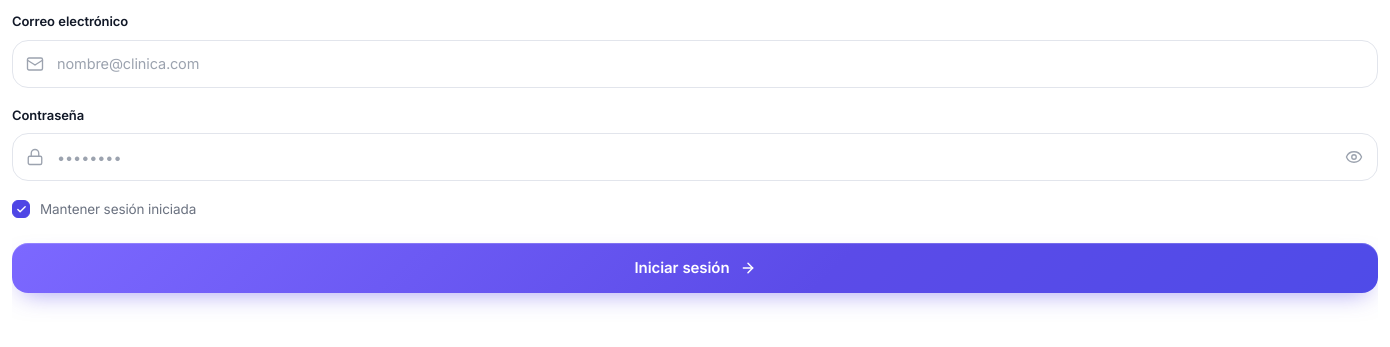
Test case: LoginForm › shows the invalid-email error for a malformed email
Type "no-es-correo" into the field labelled "Correo electrónico" at {"x": 695, "y": 64}, box [12,40,1378,88]
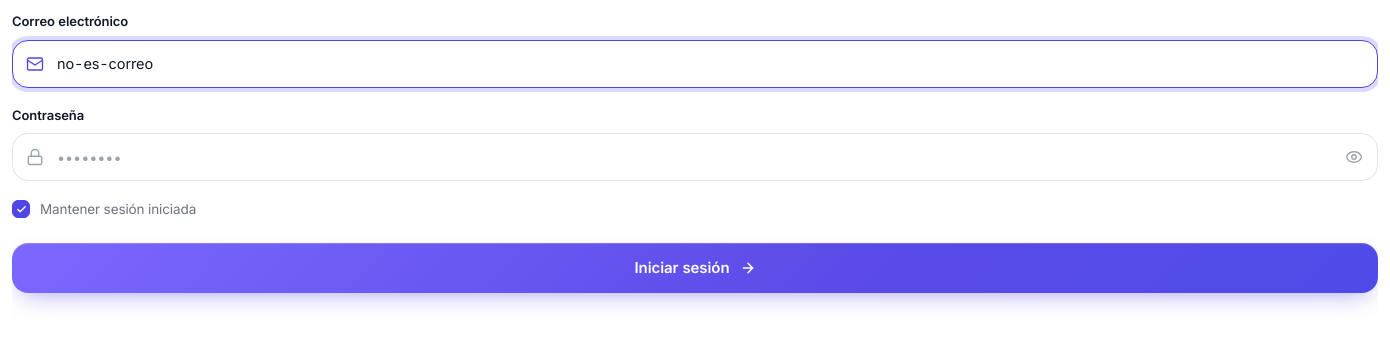
Type "secret123" into the password field labelled "Contraseña" at {"x": 695, "y": 157}, box [12,133,1378,181]
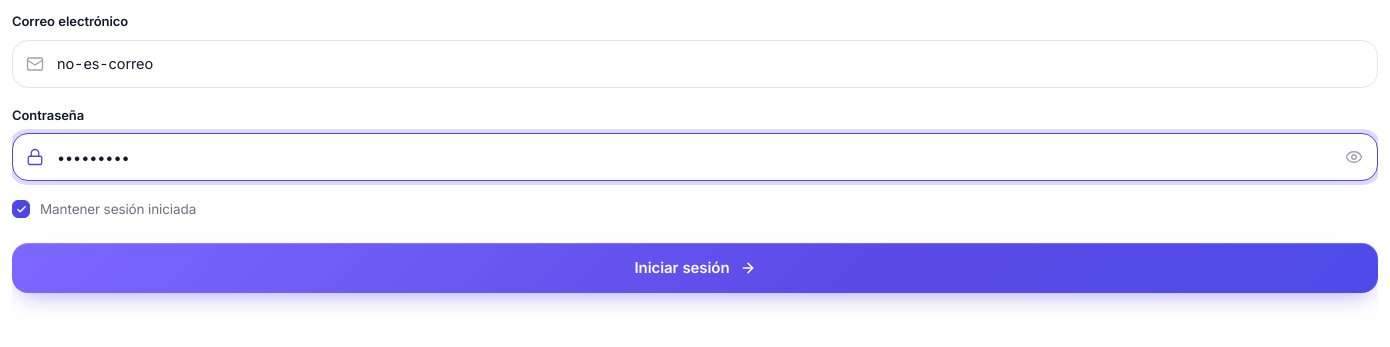
Click the button "Iniciar sesión" at {"x": 695, "y": 268}, box [12,243,1378,293]
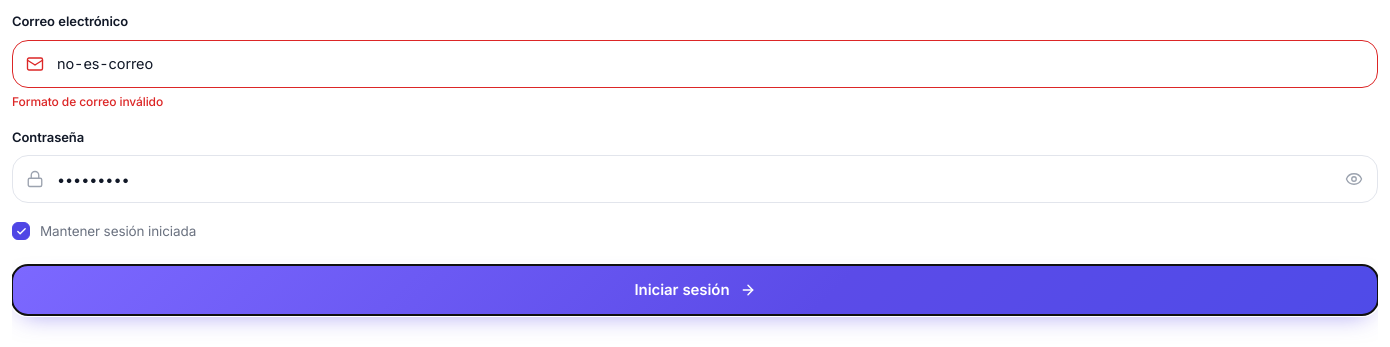
Expected: the text "Formato de correo inválido" is shown, [12,94,163,108]
